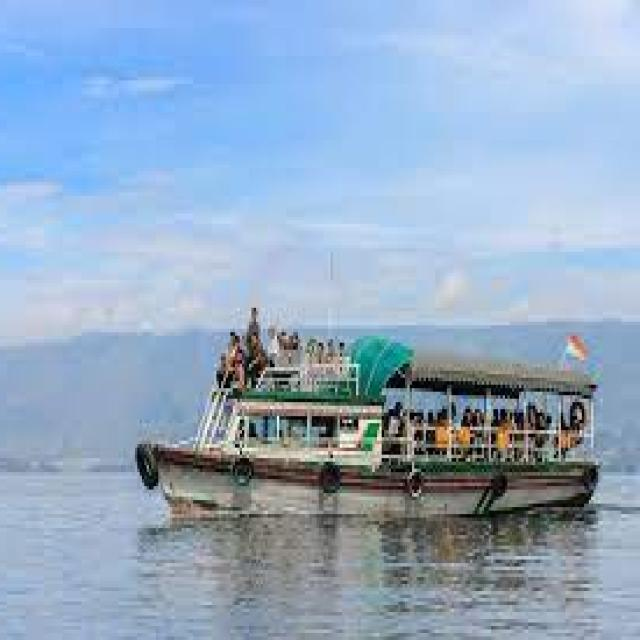passenger ship: (134, 309, 606, 526)
